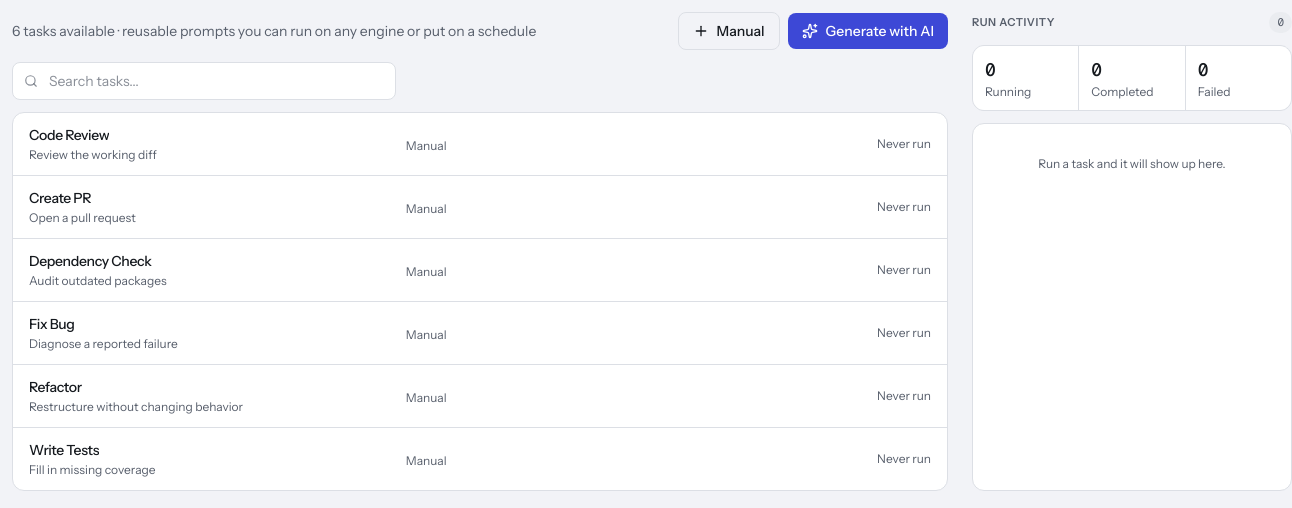
Test case: TaskList search › filters the visible tasks by name, title, or description
Expected: the heading "Code Review" is shown, [29,125,109,145]
Expected: the heading "Fix Bug" is shown, [29,314,74,334]
Type "diagnose" into the field labelled "Search tasks".
click(204, 81); type("diagnose")  # box [12,62,396,100]
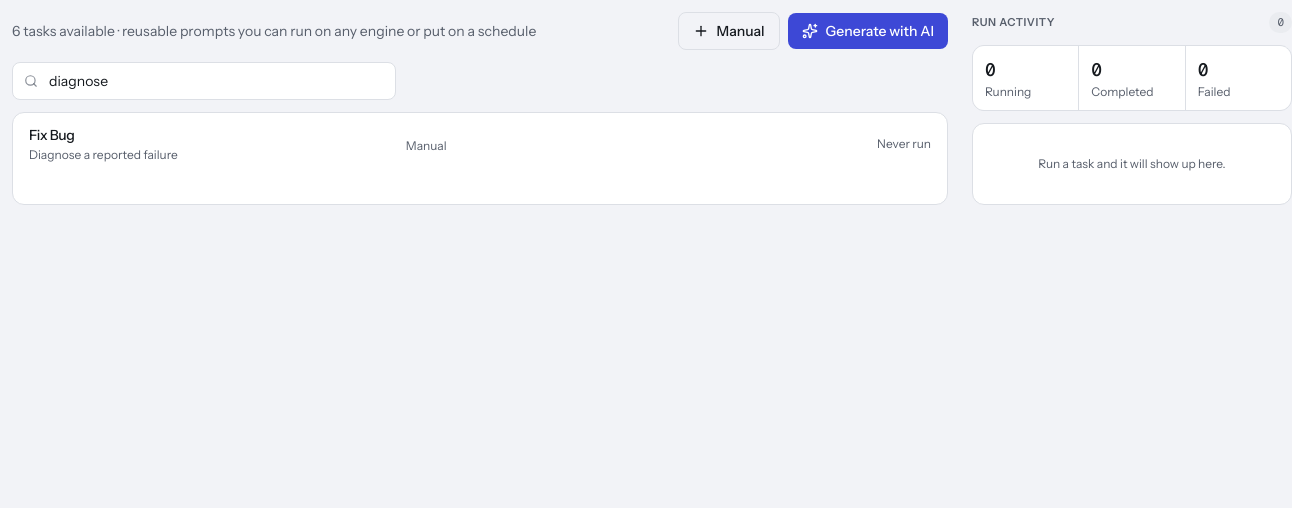
Expected: the heading "Fix Bug" is shown, [29,125,74,145]
Expected: the button "Code Review" is gone
